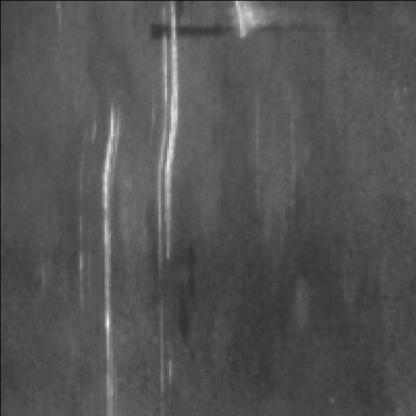scratches: (98, 102, 134, 410), (152, 4, 191, 268)
